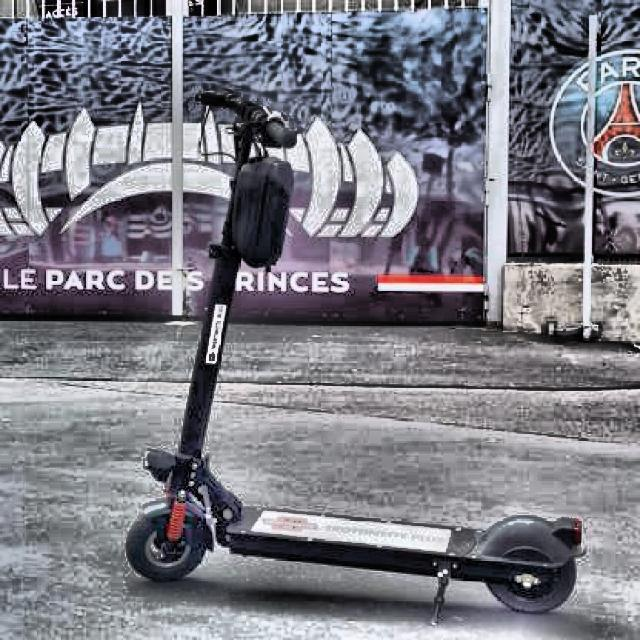bike: (123, 93, 592, 624), (125, 446, 591, 624)
